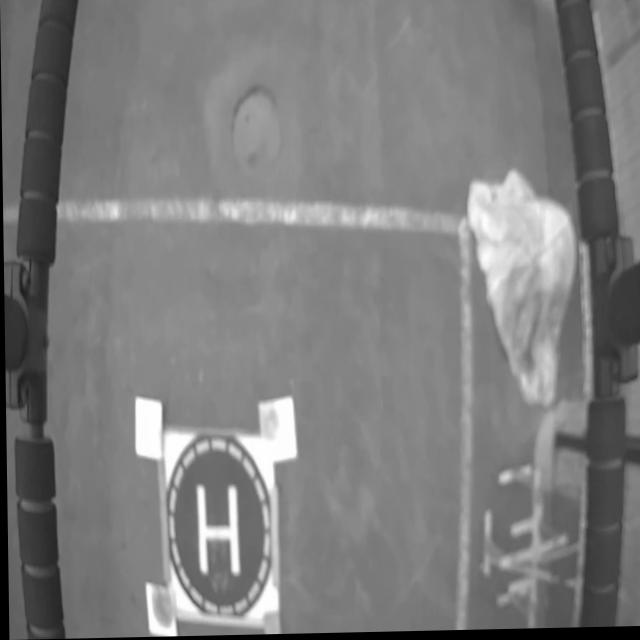Helipad: (195, 484, 238, 579)
